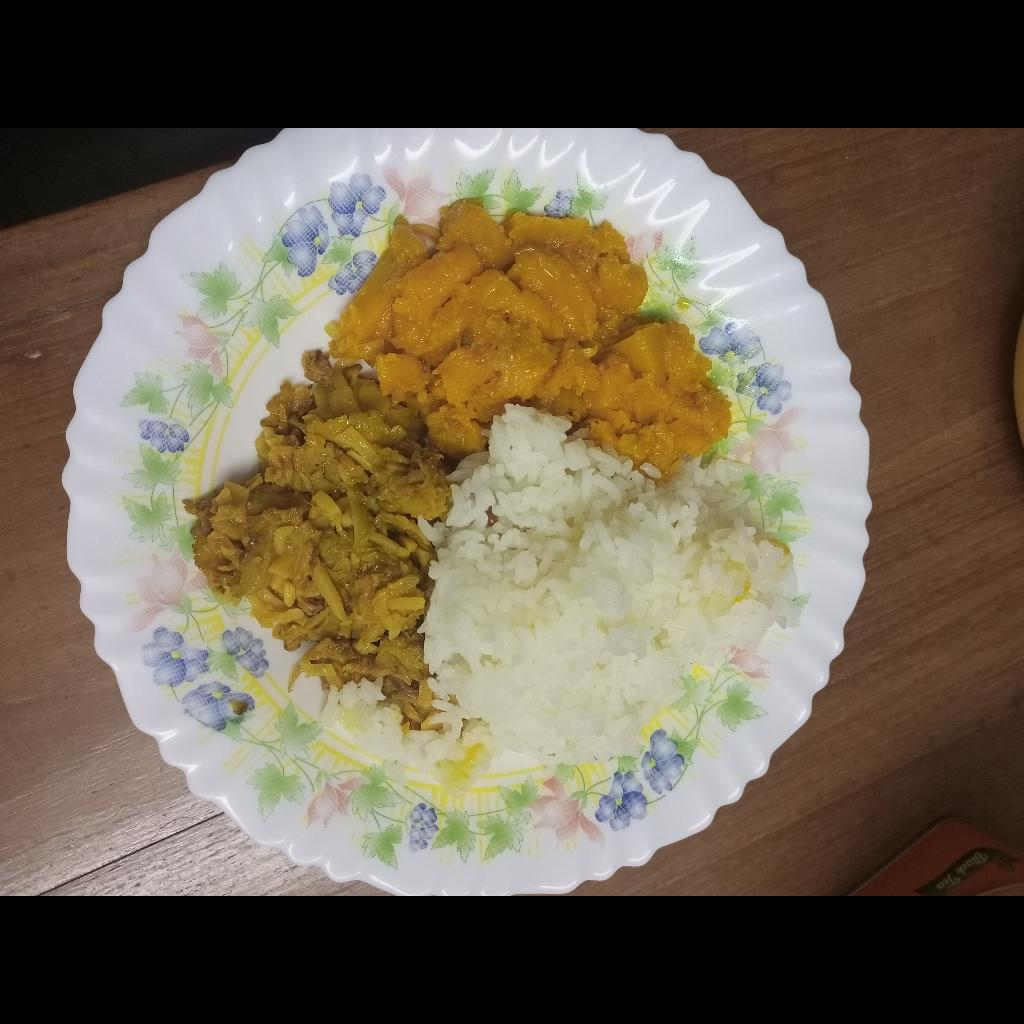kumra-vaji: (321, 197, 737, 475)
potato: (179, 349, 446, 732)
rice: (316, 405, 787, 788)
